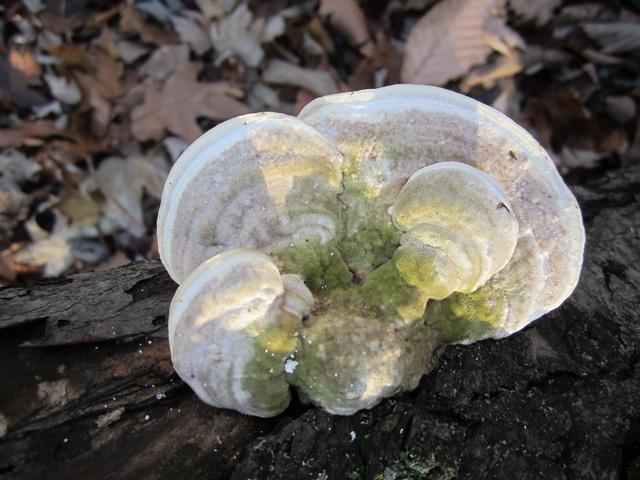Non-edible Mushroom: (154, 81, 587, 418)
